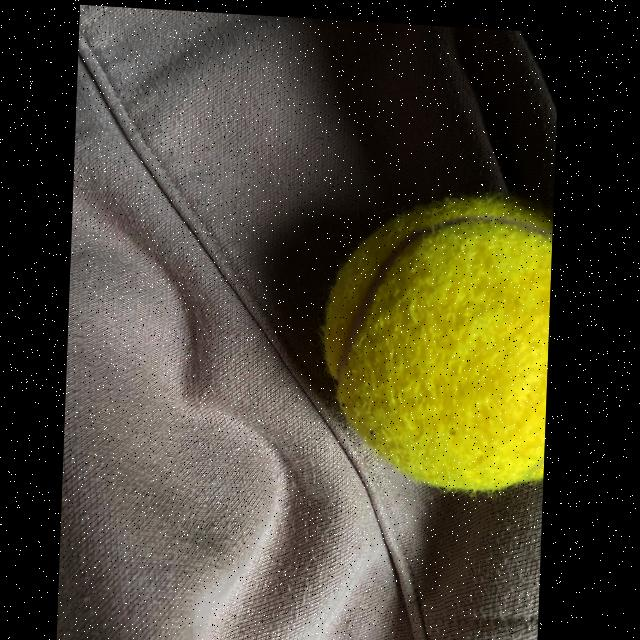Tennisball: (322, 195, 553, 491)
